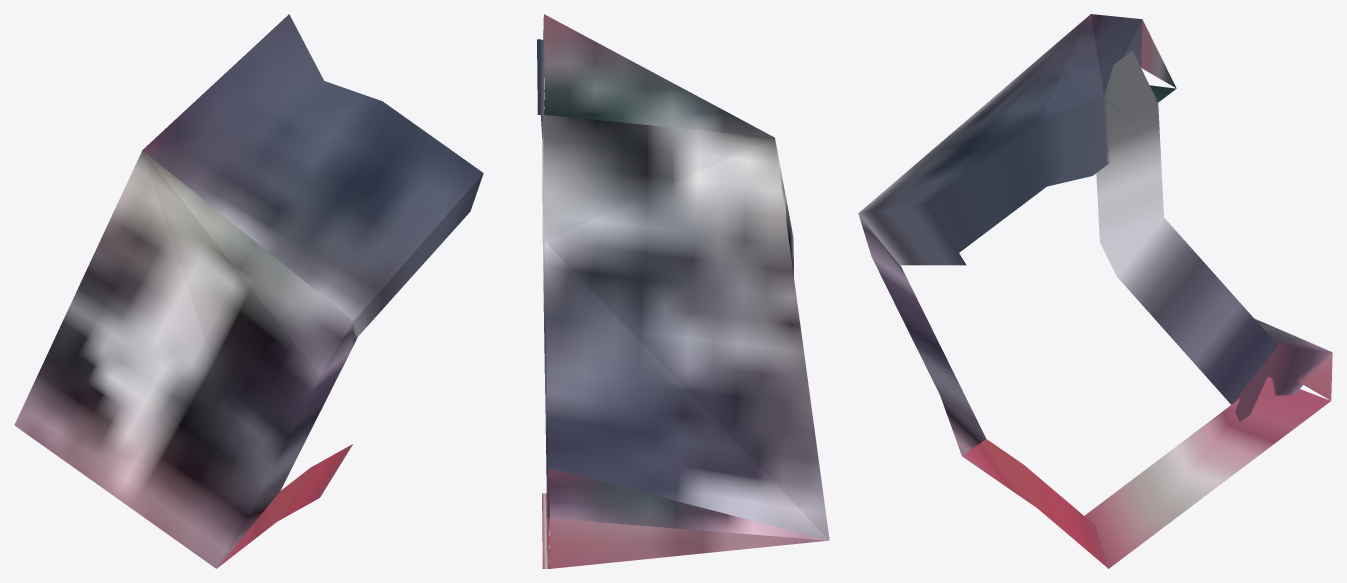
3 views of the same model, side by side, from view 1: azimuth 30°, elevation 25°; view 2: azimuth 150°, elevation 25°; view 3: azimuth 270°, elevation 25° (orthographic). The views are drawn at different scales.
Bounding box in the file's own units: 6.08 × 7.69 × 6.11.
1 material, 1 textured.
